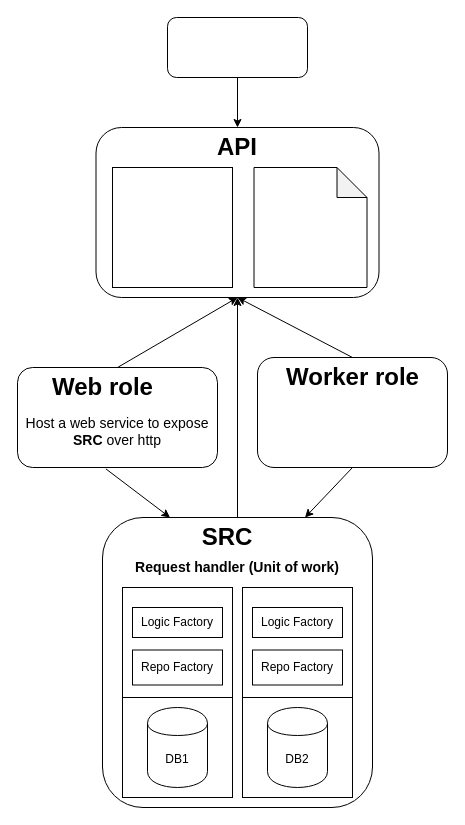
Image size: 465x825. Some labels were removed from this diagram. Here are the shapes that lost their labels. From the top down, the box of each, then its label:
(166, 16, 308, 78): REST API
(112, 166, 232, 288): ServiceFactory - TCP endpoint - HTTP endpoint
(253, 166, 367, 288): Contract
(256, 356, 448, 468): Host a windows service to expose SRC over tcp/http (Production)
